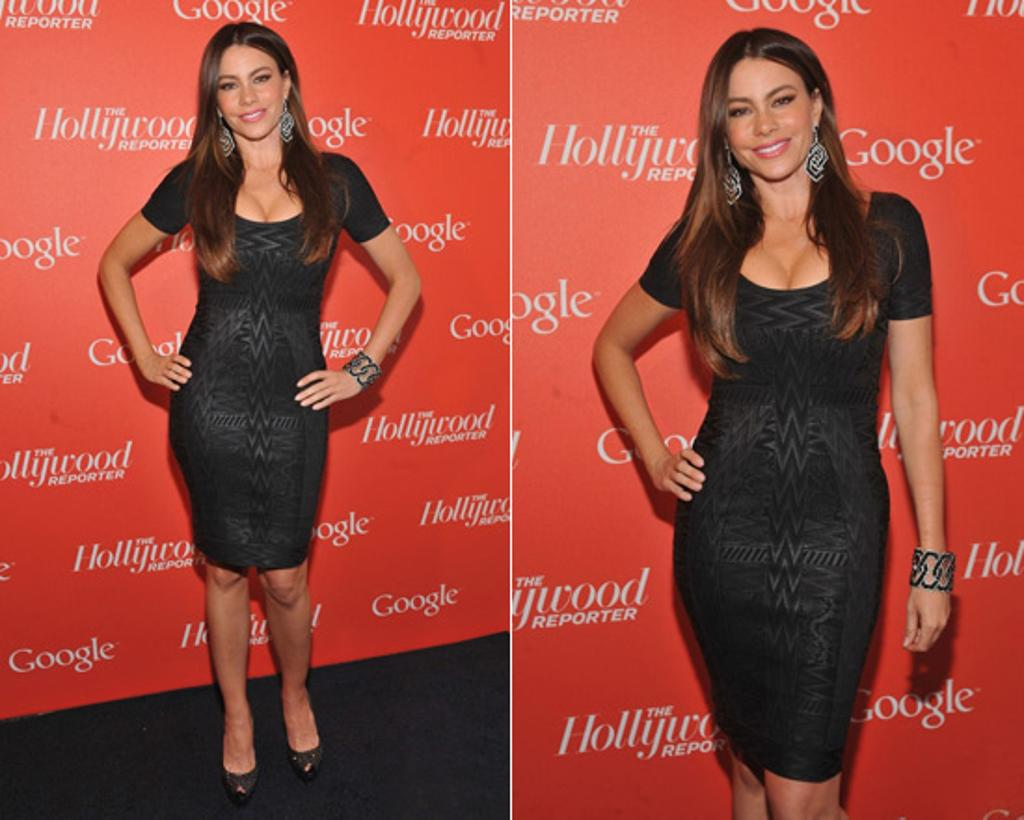face: (726, 58, 816, 182), (218, 44, 278, 140)
